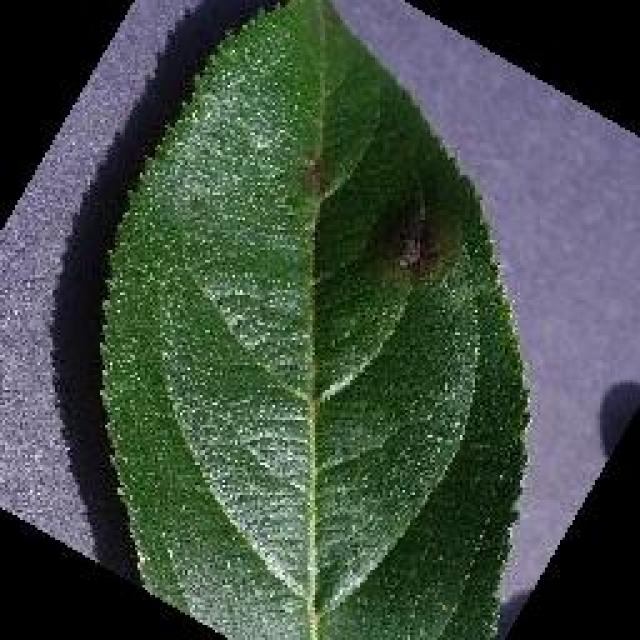apple scab disease: (92, 0, 532, 638)
